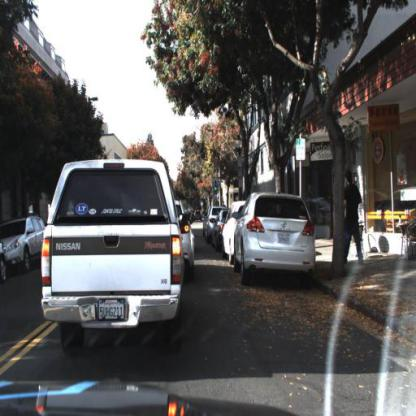car: (42, 158, 184, 359), (235, 190, 315, 284), (7, 215, 44, 278), (226, 202, 240, 263), (1, 237, 11, 283)
pedestrian: (346, 167, 360, 270)
trafficLight-Green: (214, 180, 219, 194)
